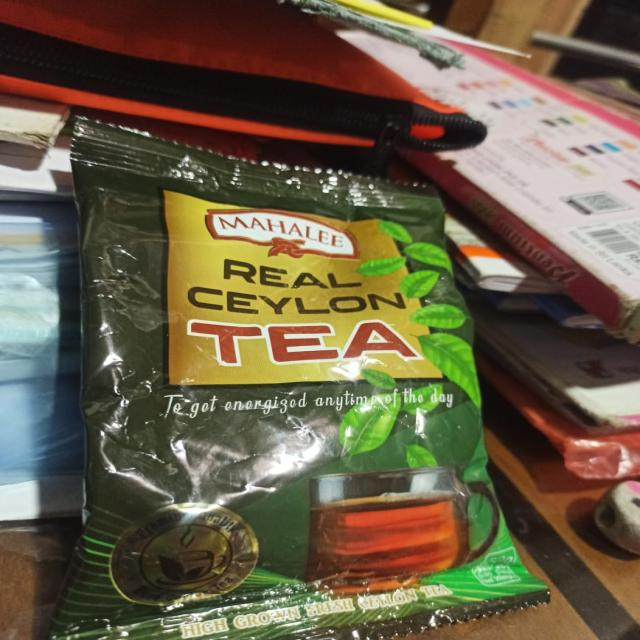Ceryloan TEA: (36, 108, 511, 640)
